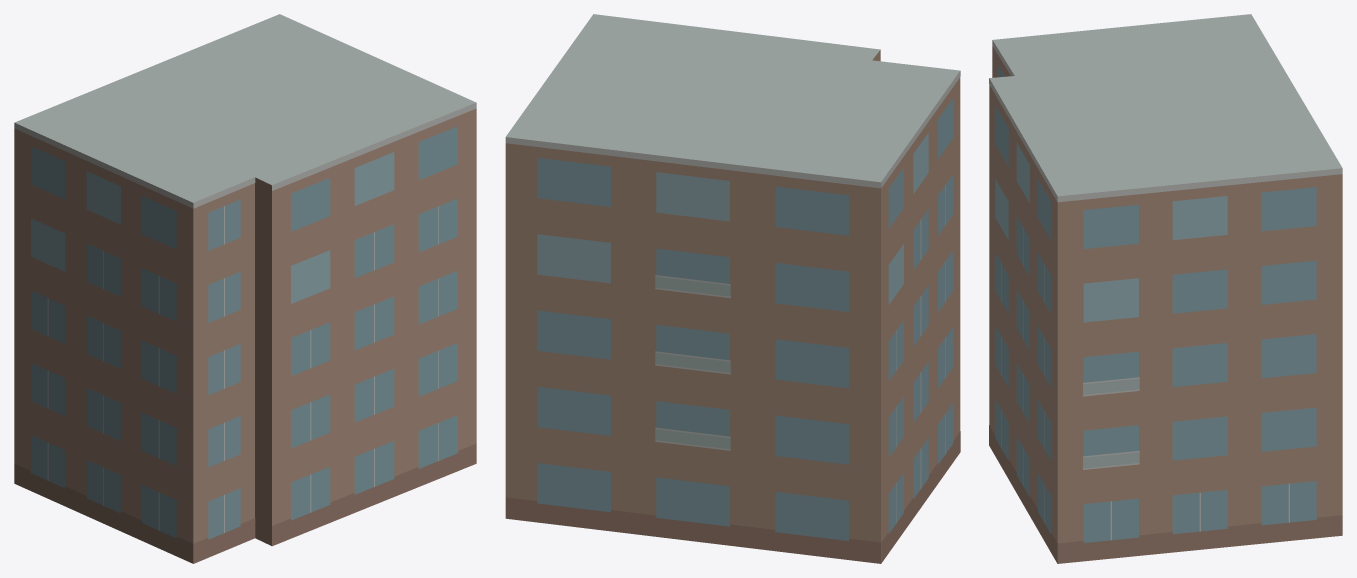
Rendered from survey-upis-32833874.glb.
3 renders of one model, left to right at view 1: azimuth 30°, elevation 25°; view 2: azimuth 150°, elevation 25°; view 3: azimuth 270°, elevation 25°, orthographic. The views are drawn at different scales.
Parts seen in each view (by area): view 1: survey-upis-32833874.tmp; view 2: survey-upis-32833874.tmp; view 3: survey-upis-32833874.tmp.
Part boxes in pixels (box(x1,y1,x2,y2)): survey-upis-32833874.tmp: box(14, 14, 476, 563); survey-upis-32833874.tmp: box(505, 14, 960, 563); survey-upis-32833874.tmp: box(989, 14, 1342, 563).
Size of the model in its own units: 16.25 by 15.25 by 13.31.
